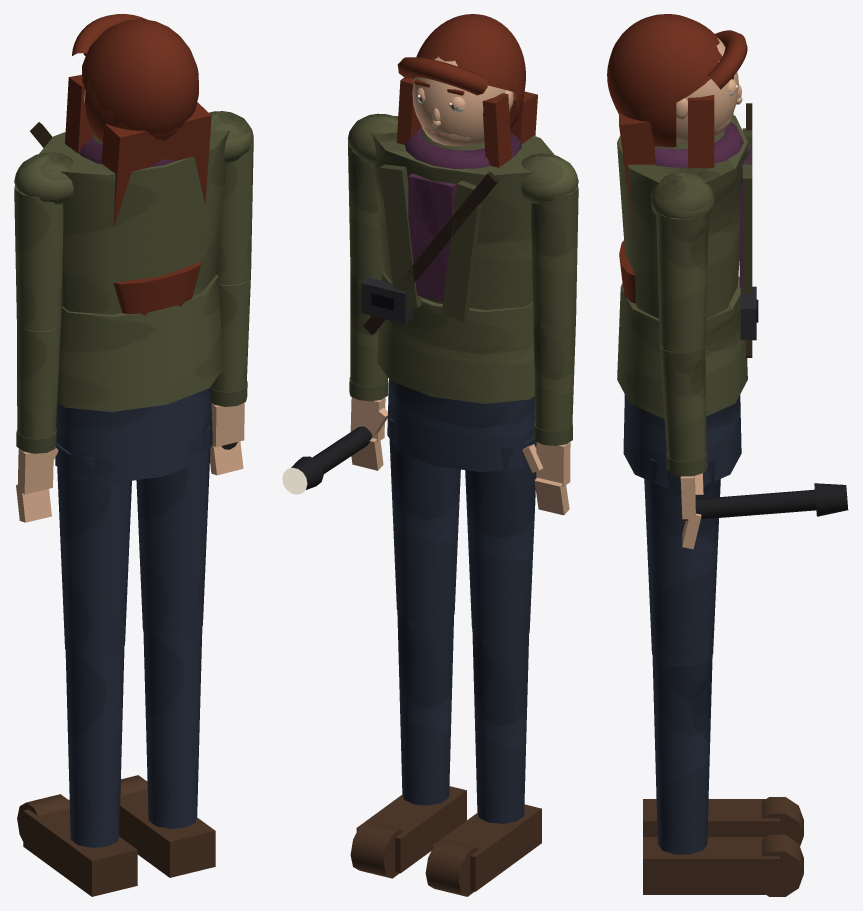
The model's file is _test-procedural-mara.raw.glb.
The picture shows the model from 3 angles, left to right: view 1: azimuth 30°, elevation 25°; view 2: azimuth 150°, elevation 25°; view 3: azimuth 270°, elevation 25°; orthographic projection. The views are drawn at different scales.
Parts seen in each view (by area): view 1: mixamorigSpine2, mixamorigHead, mixamorigLeftUpLeg, mixamorigRightUpLeg, mixamorigHips, mixamorigRightLeg, mixamorigLeftLeg, mixamorigLeftFoot, mixamorigLeftArm, mixamorigRightFoot, mixamorigLeftForeArm, mixamorigRightArm (+3 smaller); view 2: mixamorigSpine2, mixamorigHead, mixamorigLeftUpLeg, mixamorigRightUpLeg, mixamorigHips, mixamorigRightLeg, mixamorigLeftLeg, mixamorigLeftFoot, mixamorigRightFoot, mixamorigLeftArm, mixamorigLeftForeArm, mixamorigRightHand (+3 smaller); view 3: mixamorigSpine2, mixamorigHead, mixamorigRightUpLeg, mixamorigRightLeg, mixamorigRightFoot, mixamorigRightArm, mixamorigRightForeArm, mixamorigHips, mixamorigRightHand, mixamorigLeftFoot.
Part boxes in pixels (left/top/right/bottom): mixamorigSpine2: left=14, top=111, right=253, bottom=411; mixamorigHead: left=65, top=14, right=211, bottom=315; mixamorigLeftUpLeg: left=56, top=443, right=131, bottom=659; mixamorigRightUpLeg: left=136, top=425, right=210, bottom=640; mixamorigHips: left=55, top=386, right=212, bottom=482; mixamorigRightLeg: left=143, top=628, right=202, bottom=828; mixamorigLeftLeg: left=65, top=648, right=124, bottom=847; mixamorigLeftFoot: left=17, top=794, right=137, bottom=896; mixamorigLeftArm: left=14, top=186, right=63, bottom=331; mixamorigRightFoot: left=119, top=775, right=215, bottom=877; mixamorigLeftForeArm: left=16, top=321, right=61, bottom=453; mixamorigRightArm: left=216, top=138, right=253, bottom=285; mixamorigSpine2: left=348, top=113, right=578, bottom=403; mixamorigHead: left=396, top=14, right=537, bottom=167; mixamorigLeftUpLeg: left=465, top=437, right=536, bottom=642; mixamorigRightUpLeg: left=389, top=416, right=460, bottom=623; mixamorigHips: left=387, top=379, right=534, bottom=472; mixamorigRightLeg: left=397, top=612, right=453, bottom=805; mixamorigLeftLeg: left=472, top=630, right=529, bottom=823; mixamorigLeftFoot: left=425, top=804, right=541, bottom=896; mixamorigRightFoot: left=350, top=786, right=466, bottom=878; mixamorigLeftArm: left=531, top=185, right=578, bottom=326; mixamorigLeftForeArm: left=533, top=317, right=575, bottom=445; mixamorigRightHand: left=282, top=397, right=387, bottom=494; mixamorigSpine2: left=617, top=103, right=758, bottom=418; mixamorigHead: left=607, top=14, right=747, bottom=303; mixamorigRightUpLeg: left=644, top=458, right=720, bottom=666; mixamorigRightLeg: left=652, top=655, right=712, bottom=854; mixamorigRightFoot: left=643, top=834, right=803, bottom=896; mixamorigRightArm: left=656, top=214, right=708, bottom=353; mixamorigRightForeArm: left=660, top=344, right=707, bottom=476; mixamorigHips: left=623, top=394, right=741, bottom=487; mixamorigRightHand: left=680, top=473, right=848, bottom=549; mixamorigLeftFoot: left=643, top=797, right=803, bottom=846.
Size of the model in its own units: 0.506 by 1.78 by 0.4586.
19 materials, 3 textured.
